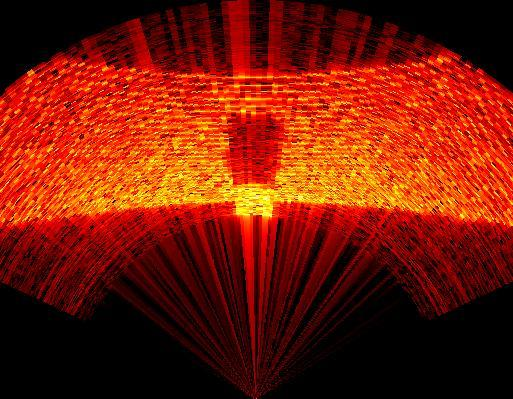box_crate: (226, 124, 286, 188)
